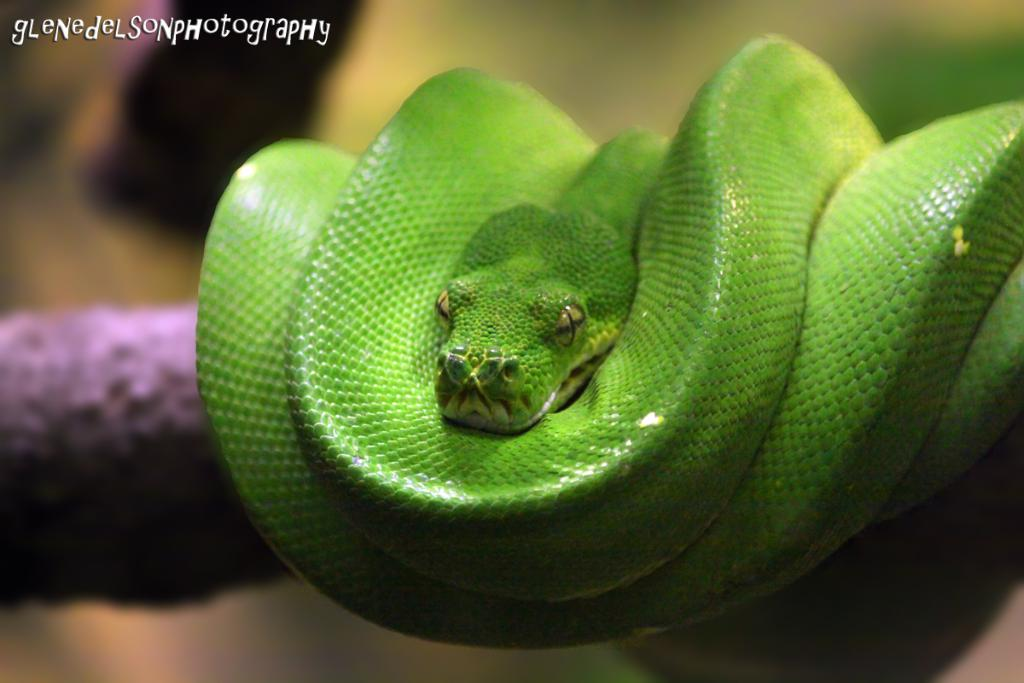person: (71, 0, 376, 245)
